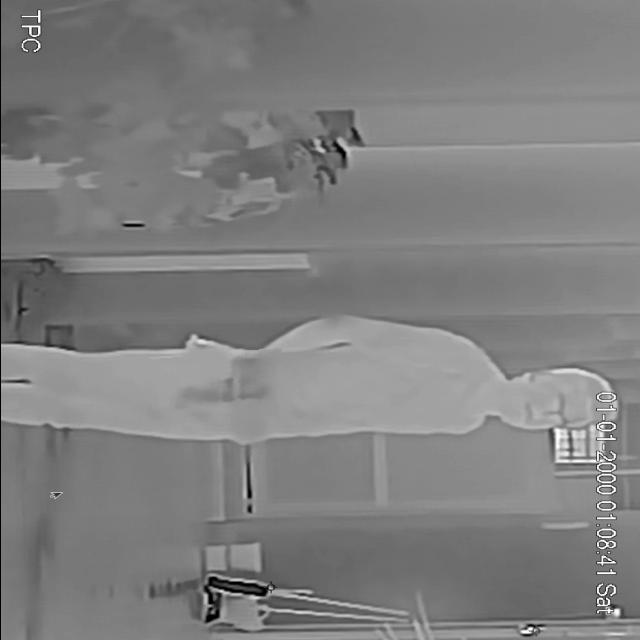Weapon: (148, 351, 284, 416)
